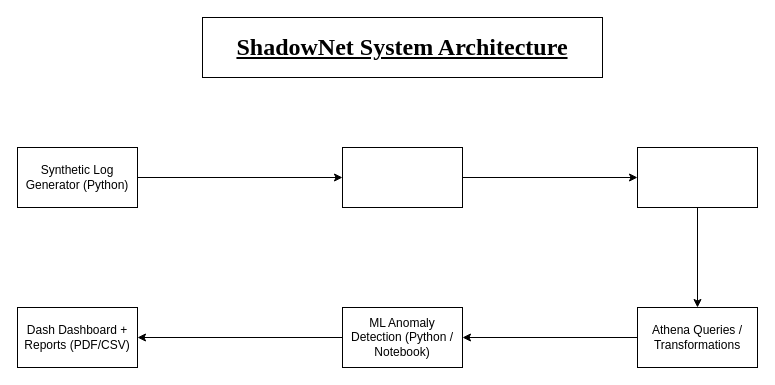
Image size: 775x385. Some labels were removed from this diagram. The shapes that lost their labels are listed below. From the top down, each one's centre as x and y in pixels, then its label:
[402,177]: S3 Raw Storage (Logs)
[697,177]: AWS Glue Data Catalog
